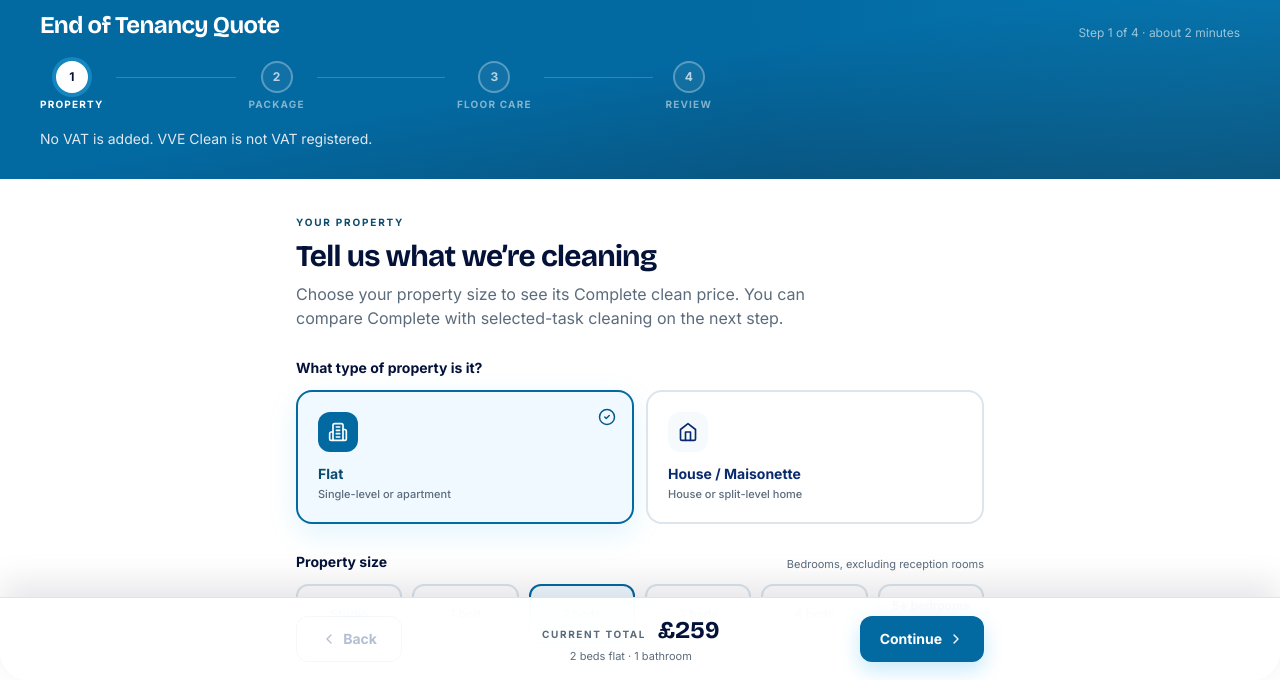
Test: EotQuoteWizard — Step 3: Floor care (standard choices first) › choosing Professional still offers whole-property and manual carpet selection
Step 1. Click the button "Continue" → (922, 639), box [860,616,984,662]
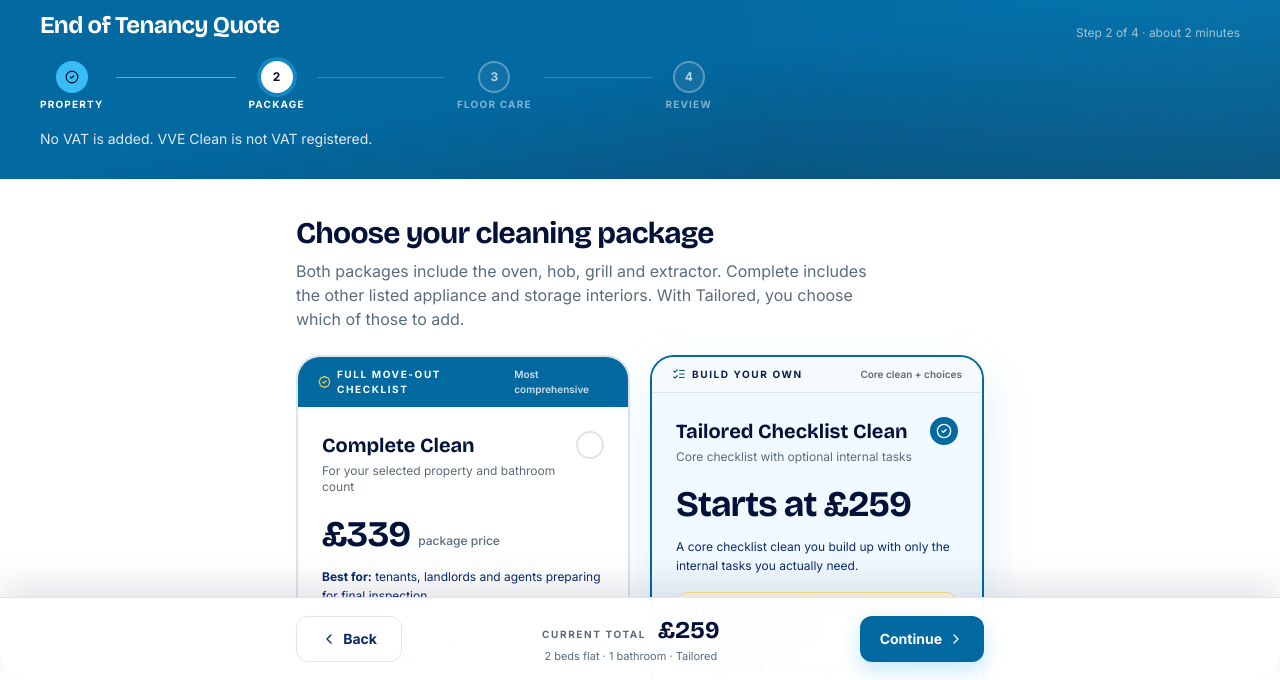
Step 2. Click the button "Continue" → (922, 639), box [860,616,984,662]
(page scrolled)
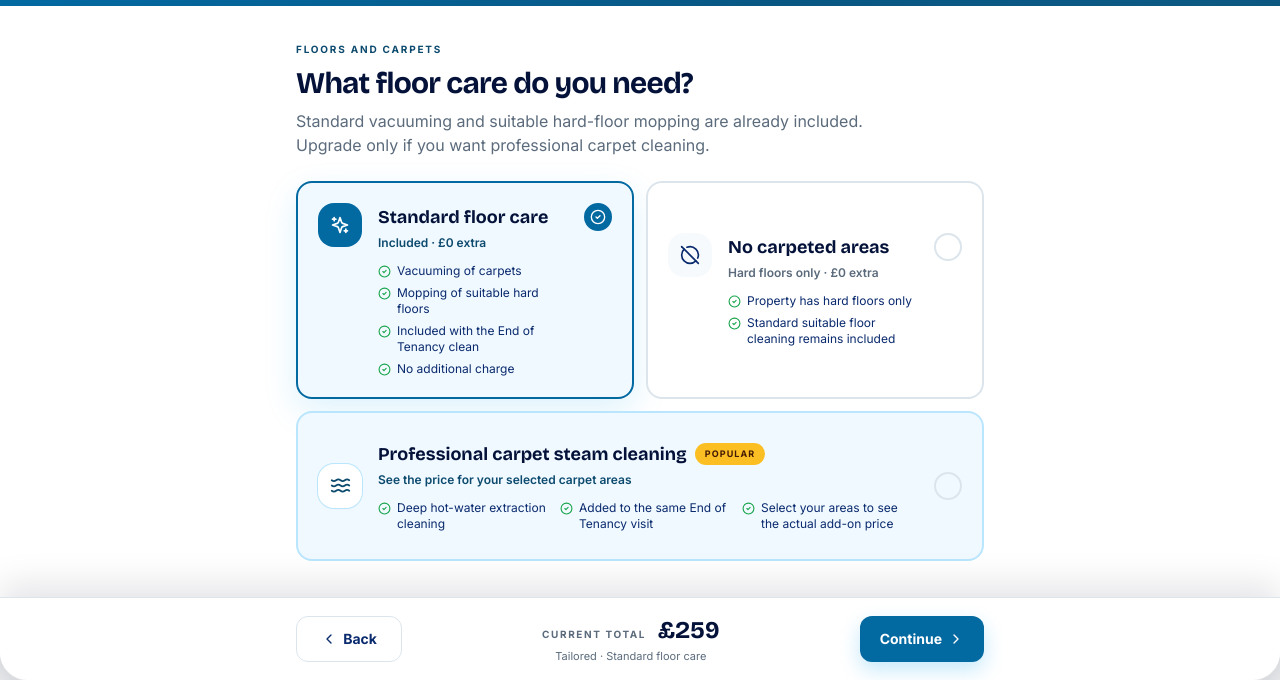
Step 3. Click the button "Professional carpet steam cleaning" → (340, 486), box [296,411,984,561]
(page scrolled)
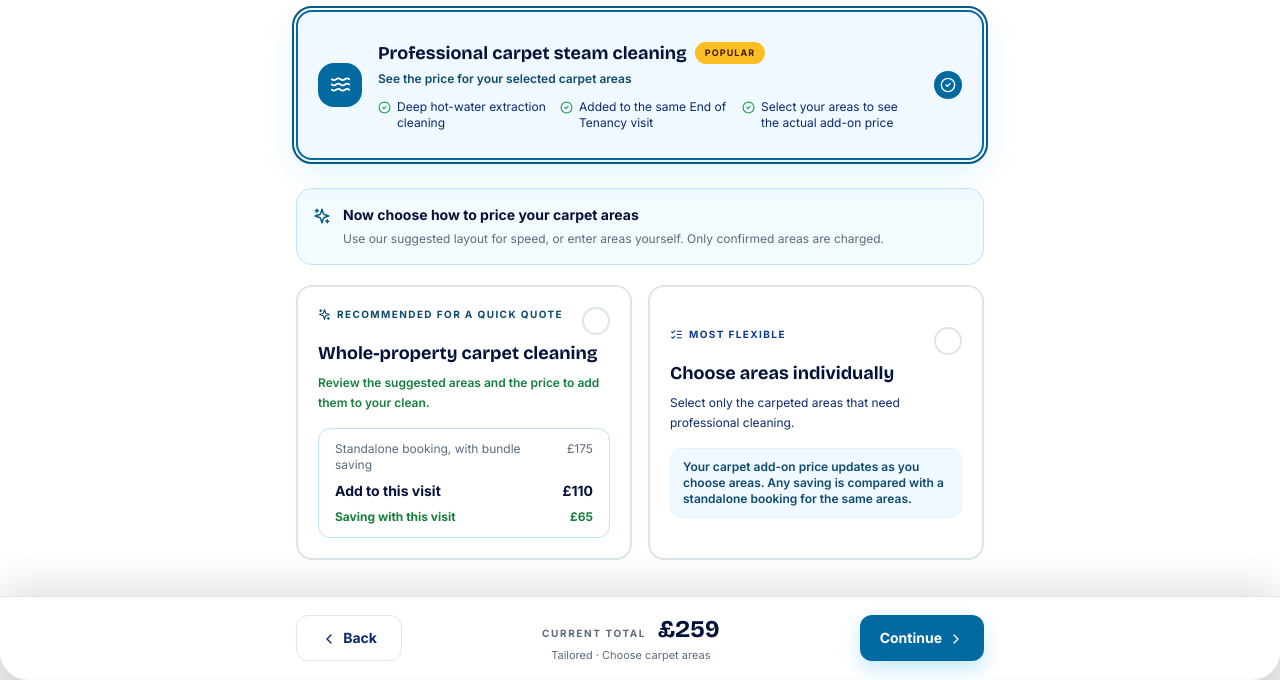
Expected: the text "Whole-property carpet cleaning" is shown, [318,339,610,367]
Expected: the text "Choose areas individually" is shown, [670,362,894,384]
